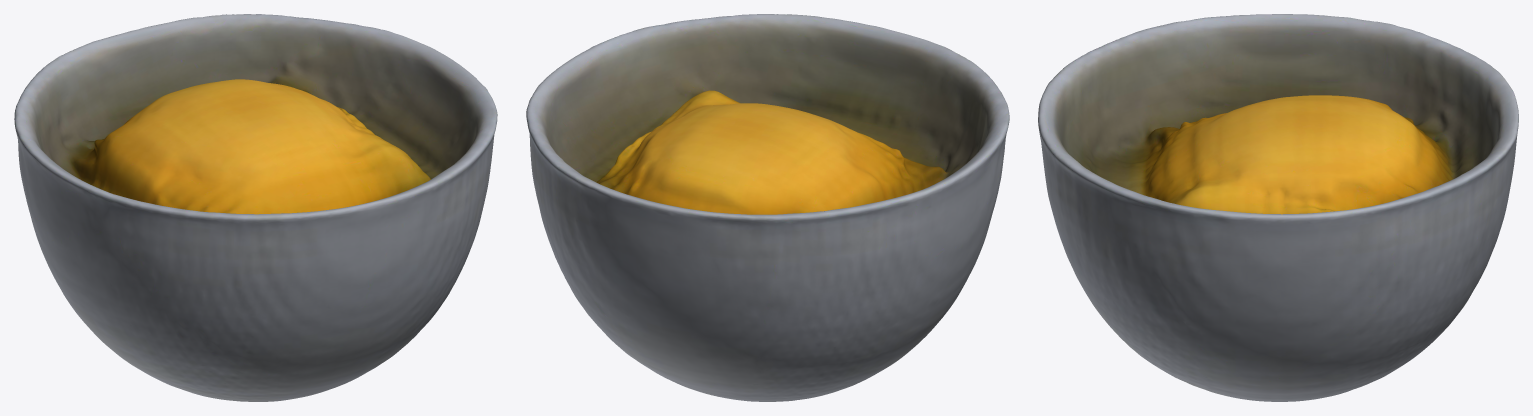
The model's file is Jaunes d'oeufs mousseux.glb.
3 renders of one model, left to right at view 1: azimuth 30°, elevation 25°; view 2: azimuth 150°, elevation 25°; view 3: azimuth 270°, elevation 25°, orthographic.
Parts seen in each view (by area): view 1: high_poly; view 2: high_poly; view 3: high_poly.
Boxes of the visible parts, bbox=[...] form: high_poly: bbox=[14, 14, 497, 401]; high_poly: bbox=[526, 14, 1009, 401]; high_poly: bbox=[1038, 14, 1518, 401].
Bounding box in the file's own units: 1 × 0.5944 × 0.9993.
1 material, 1 textured.
